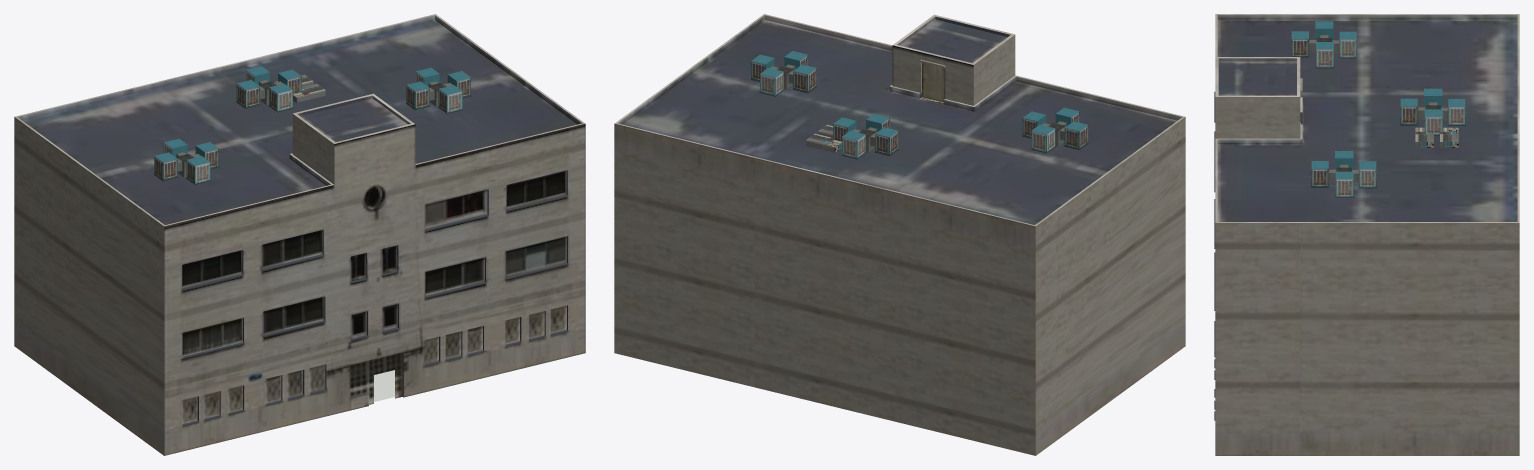
Rendered from hospital.access-v6.lod1.glb.
3 views of the same model, side by side, from view 1: azimuth 30°, elevation 25°; view 2: azimuth 150°, elevation 25°; view 3: azimuth 270°, elevation 25° (orthographic).
Parts seen in each view (by area): view 1: Building00_House_0, Building00_Building_Roof_Detail_0, Walkable floors and stairs; view 2: Building00_House_0, Building00_Building_Roof_Detail_0; view 3: Building00_House_0, Building00_Building_Roof_Detail_0.
Boxes of the visible parts, x1,y1,x2,y2 form: Building00_House_0: (14,14,585,455); Building00_Building_Roof_Detail_0: (153,66,471,184); Walkable floors and stairs: (374,370,394,401); Building00_House_0: (614,14,1185,455); Building00_Building_Roof_Detail_0: (750,51,1088,159); Building00_House_0: (1214,14,1519,455); Building00_Building_Roof_Detail_0: (1291,21,1465,197).
Bounding box in the file's own units: 40 × 24.53 × 24.73.
3 materials, 2 textured.
